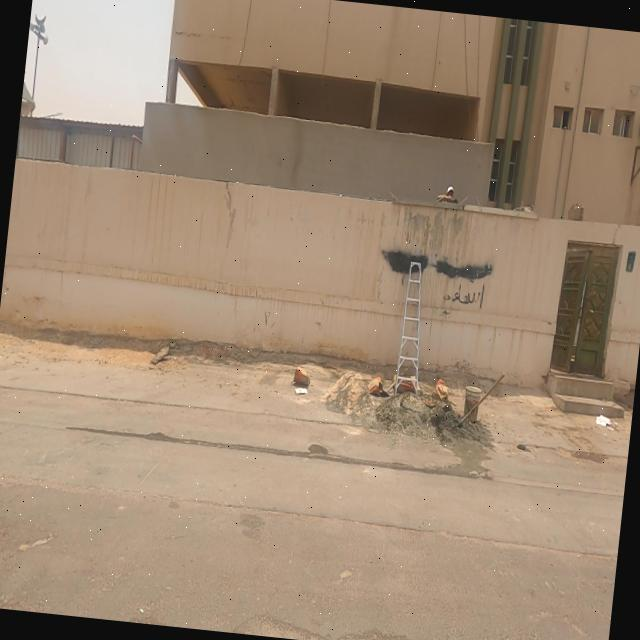Graffiti: (432, 256, 493, 284), (443, 283, 485, 312), (379, 249, 412, 277), (420, 252, 429, 273), (410, 253, 423, 262)
